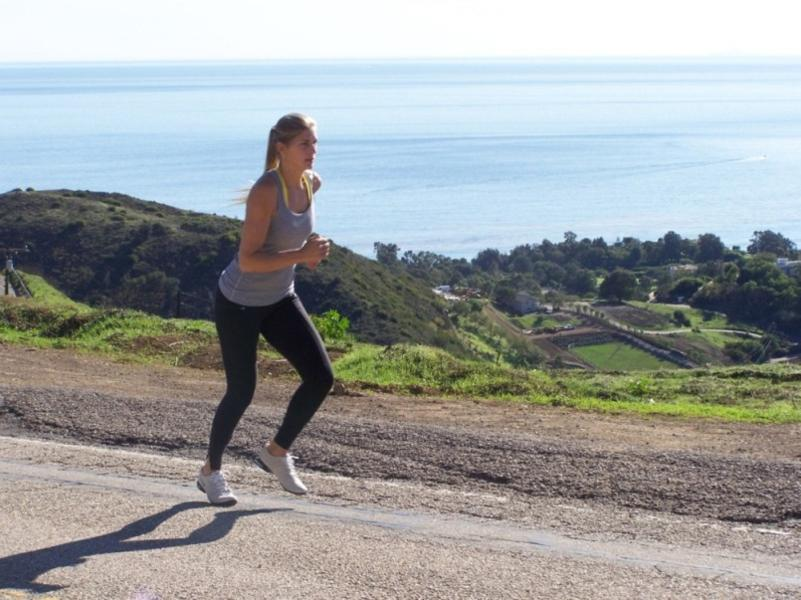person: (199, 111, 339, 506)
